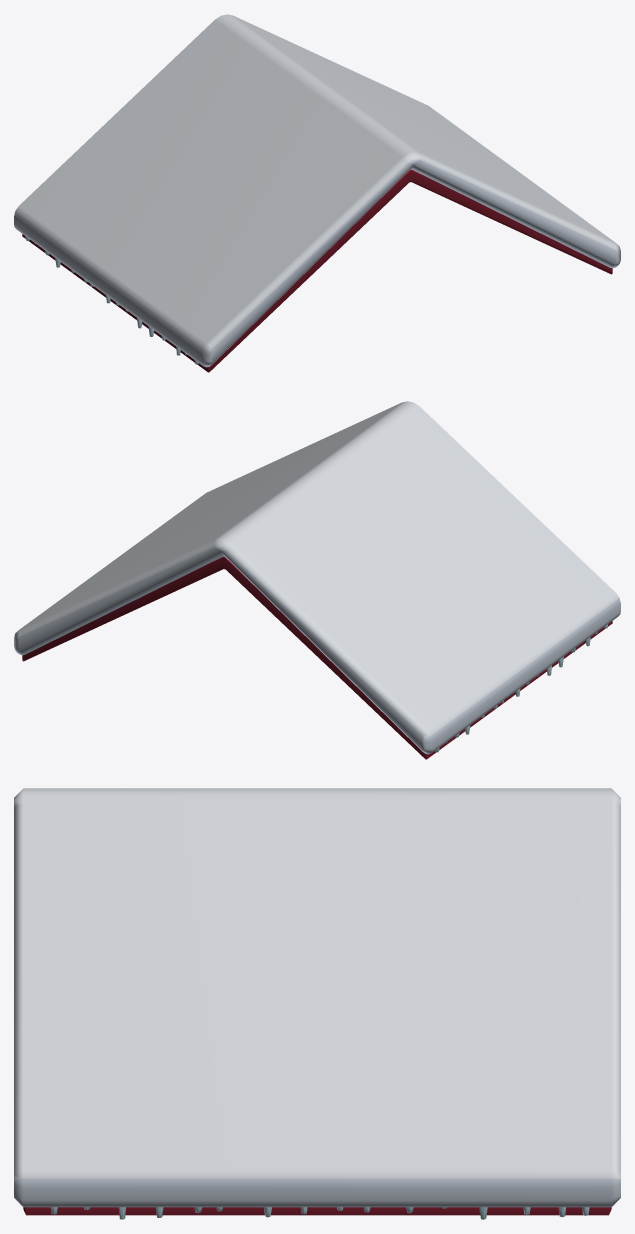
Rendered from CandyHouse_Butter_Roof.glb.
3 renders of one model, top to bottom at view 1: azimuth 30°, elevation 25°; view 2: azimuth 150°, elevation 25°; view 3: azimuth 270°, elevation 25°, orthographic. The views are drawn at different scales.
Parts seen in each view (by area): view 1: CandyHouse_Butter_Roof; view 2: CandyHouse_Butter_Roof; view 3: CandyHouse_Butter_Roof.
Boxes of the visible parts, box(x1,y1,x2,y2) form: CandyHouse_Butter_Roof: box(14, 14, 620, 372); CandyHouse_Butter_Roof: box(14, 401, 620, 759); CandyHouse_Butter_Roof: box(14, 788, 620, 1219).
Size of the model in its own units: 28.2 by 11.2 by 22.5.
